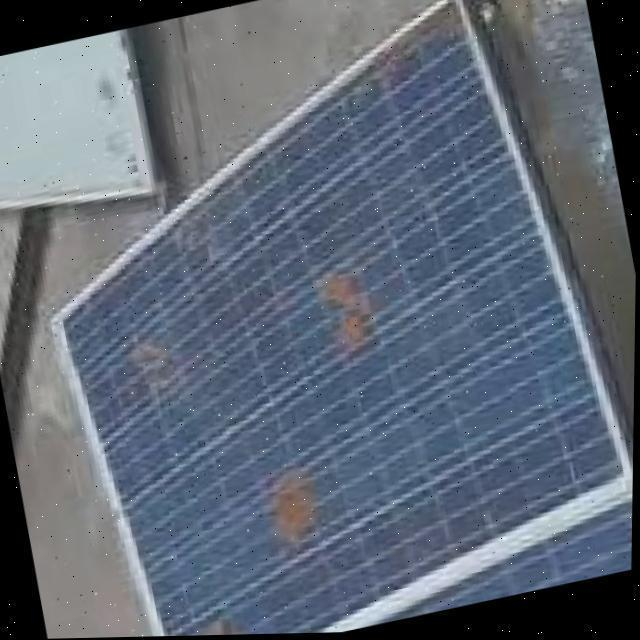Anomaly Solar Panel: (0, 0, 636, 637)
Surface Contaminant: (298, 258, 394, 360), (366, 0, 473, 91), (252, 468, 331, 555), (191, 612, 249, 636)
